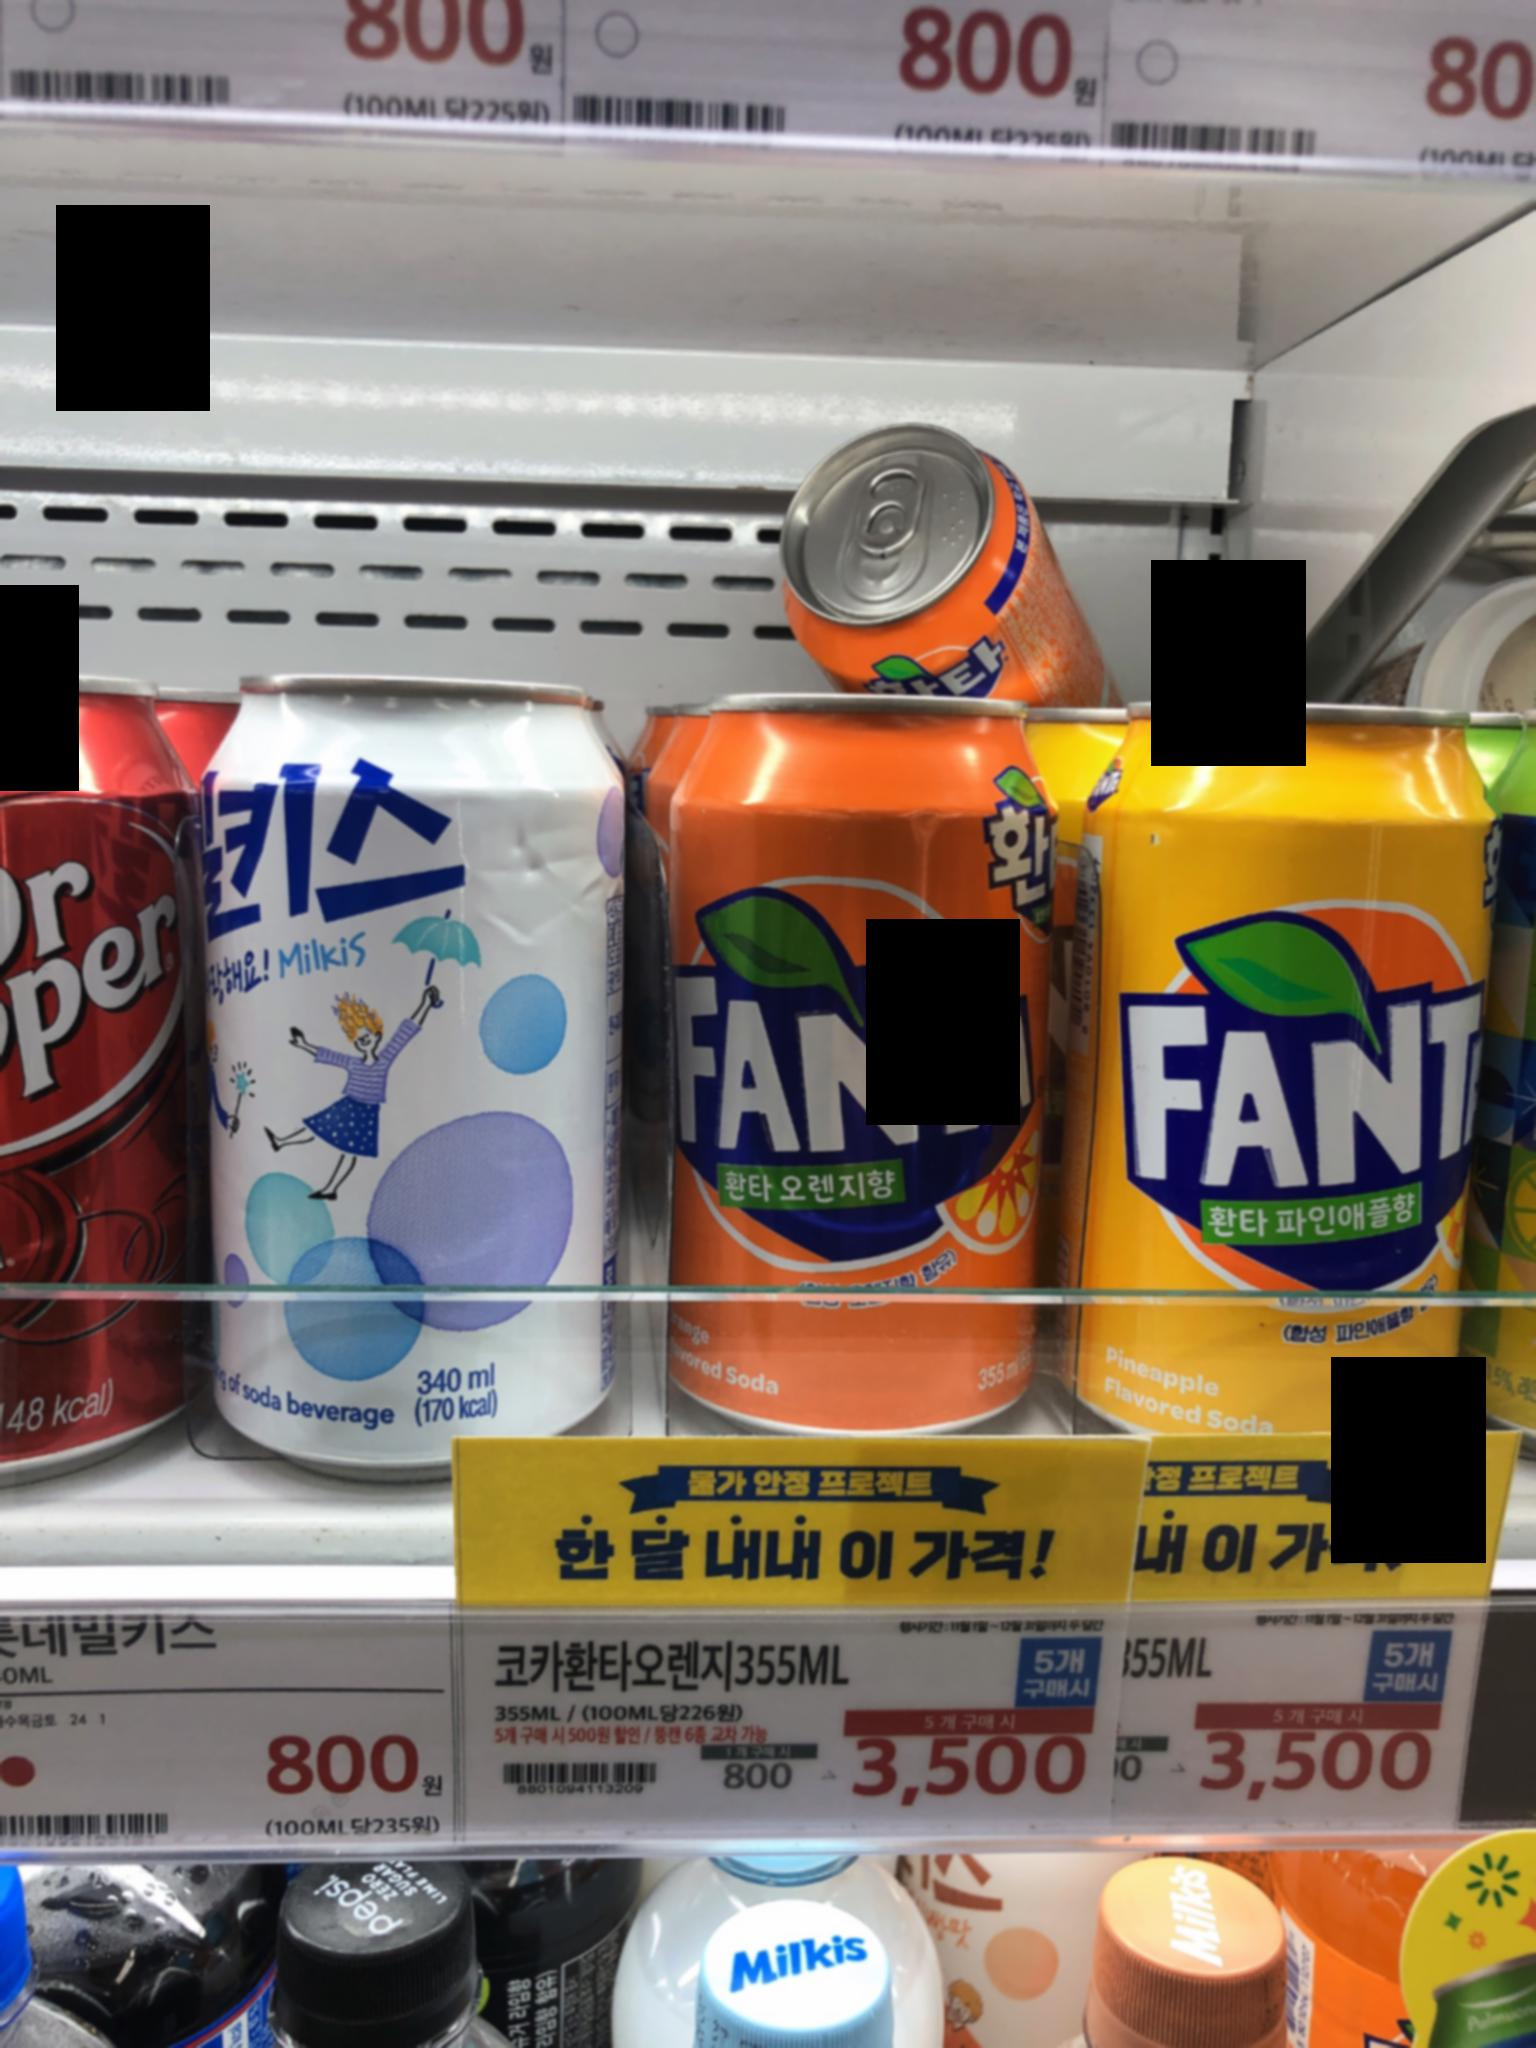fanta_orange: (600, 611, 1063, 1430)
